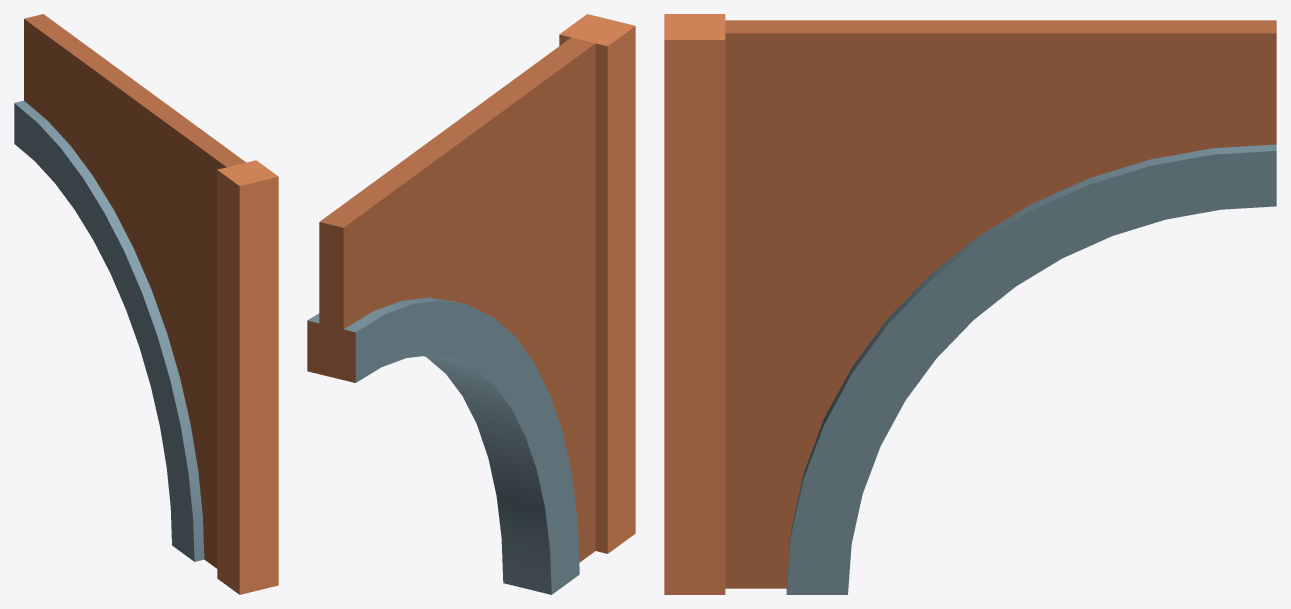
The model's file is wallWoodArchTop.obj.
3 views of the same model, side by side, from view 1: azimuth 30°, elevation 25°; view 2: azimuth 150°, elevation 25°; view 3: azimuth 270°, elevation 25° (orthographic). The views are drawn at different scales.
Parts seen in each view (by area): view 1: wallWoodArchTop; view 2: wallWoodArchTop; view 3: wallWoodArchTop.
Boxes of the visible parts, bbox=[...] form: wallWoodArchTop: bbox=[14, 14, 278, 594]; wallWoodArchTop: bbox=[307, 14, 635, 594]; wallWoodArchTop: bbox=[664, 14, 1276, 594].
Bounding box in the file's own units: 0.1 × 1 × 1.
